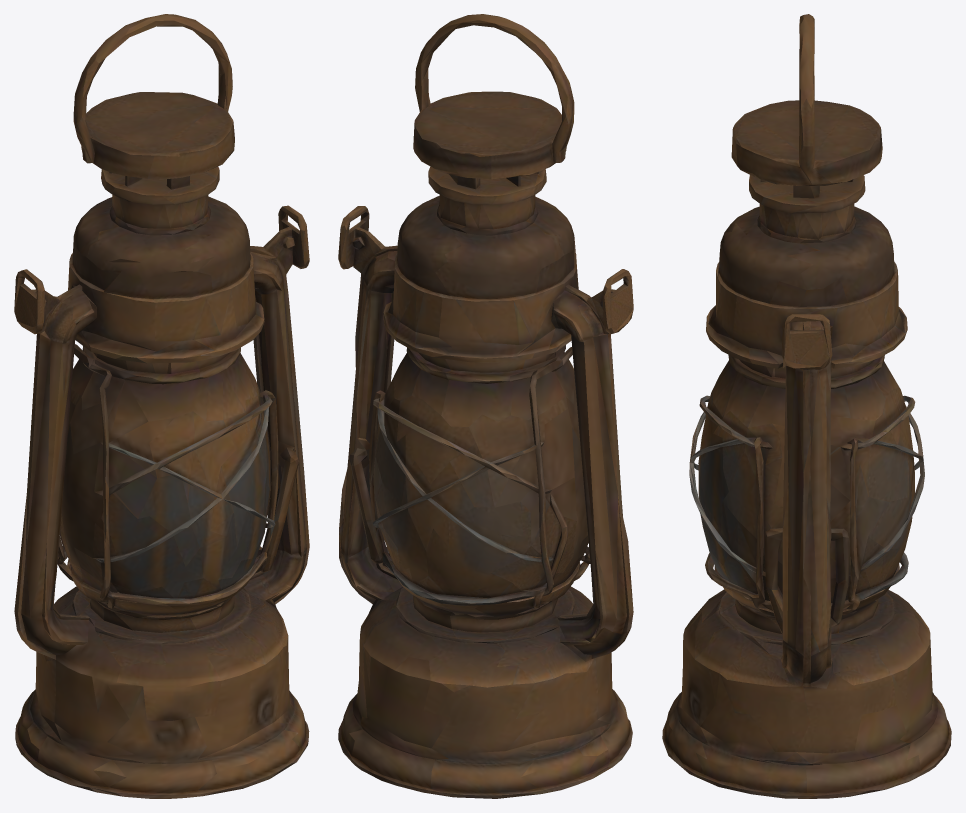
The model's file is lantern.glb.
3 views of the same model, side by side, from view 1: azimuth 30°, elevation 25°; view 2: azimuth 150°, elevation 25°; view 3: azimuth 270°, elevation 25° (orthographic).
Bounding box in the file's own units: 0.8037 × 1.9 × 0.701.
1 material, 1 textured.
